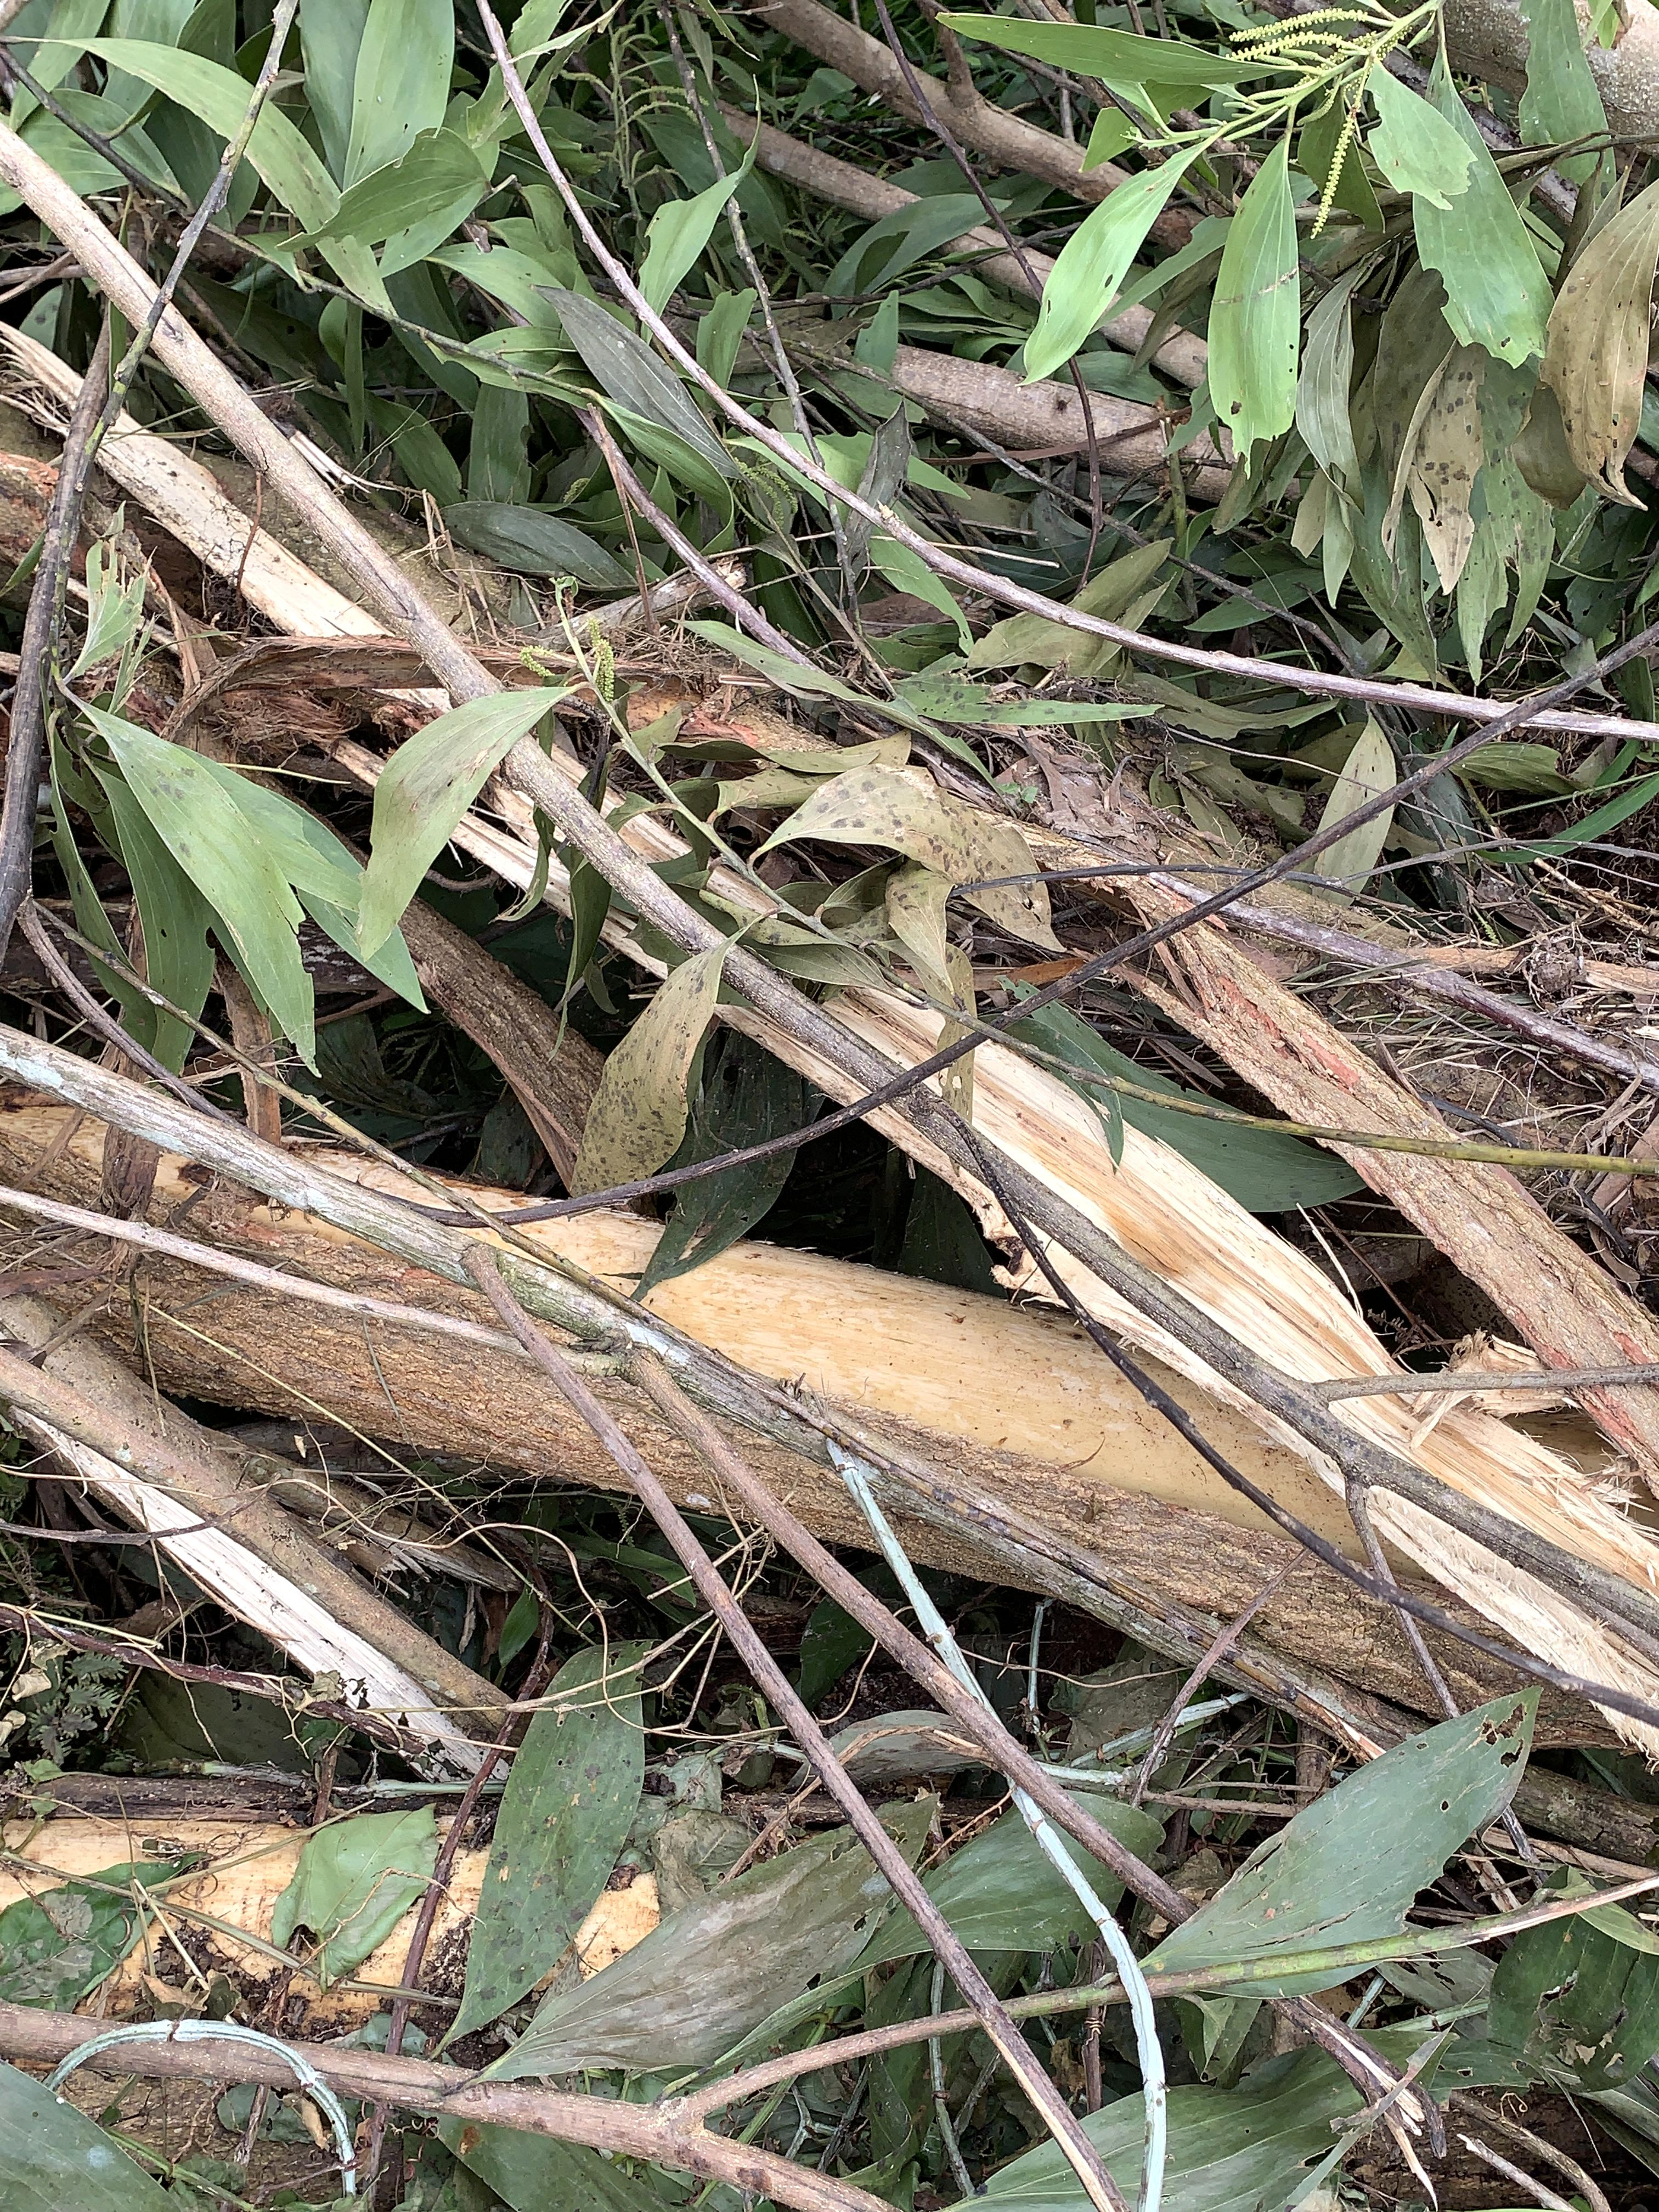Mammals Attack: (35, 1033, 1659, 1710)
